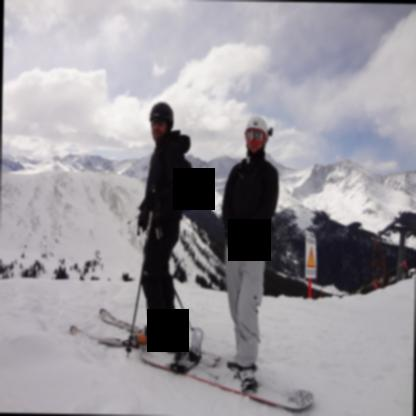backpack: (148, 128, 195, 215)
